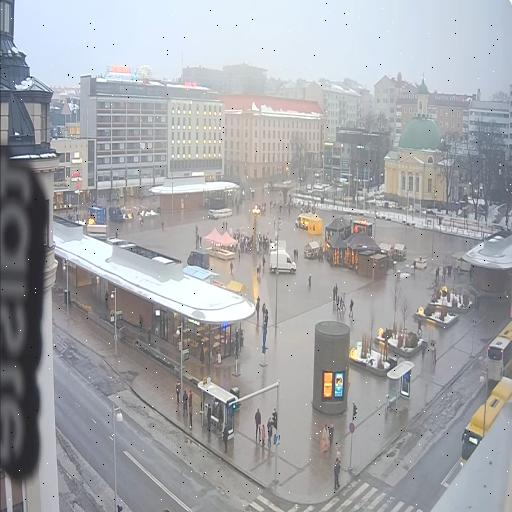bus: (462, 378, 512, 464), (487, 321, 512, 381)
